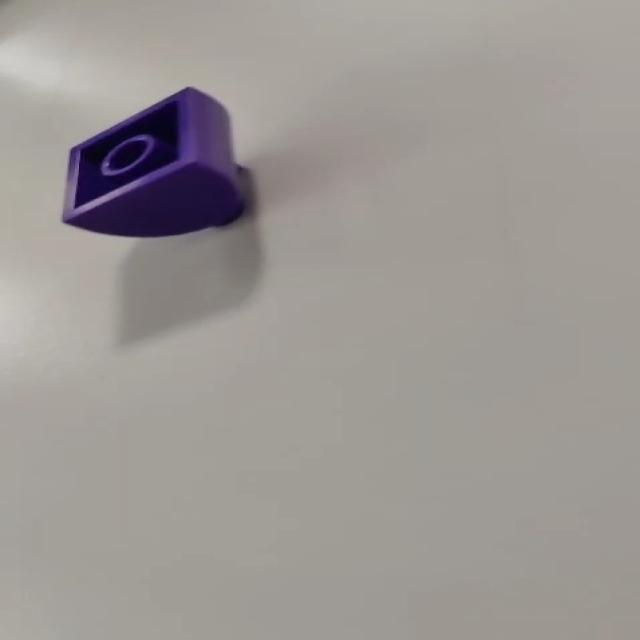H2x2x1: (65, 84, 249, 240)
